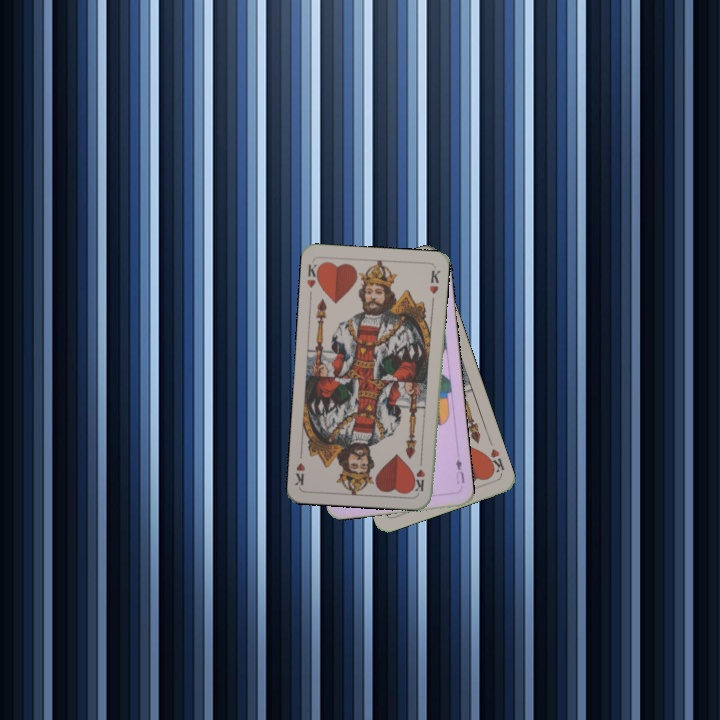EU: (452, 454, 467, 487)
HK: (482, 445, 507, 477), (411, 454, 428, 494), (303, 260, 323, 290)
